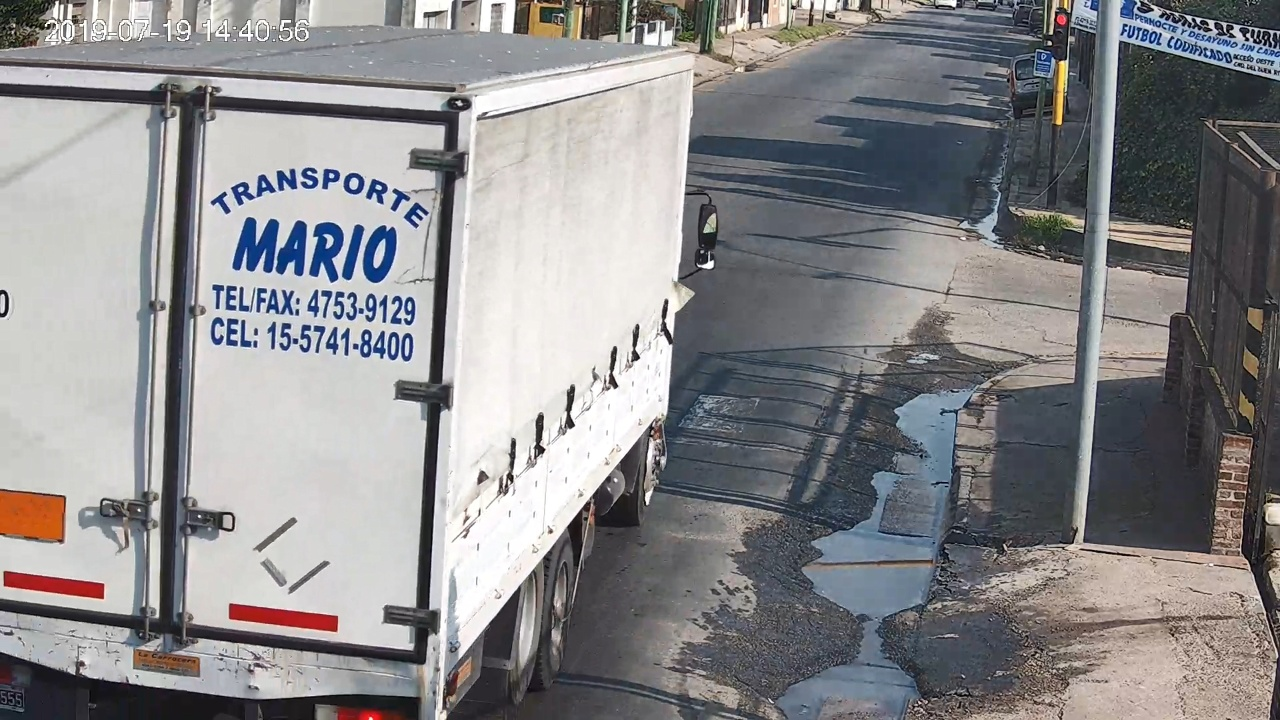traffic light: (1055, 12, 1068, 60)
truck: (1, 23, 719, 720)
